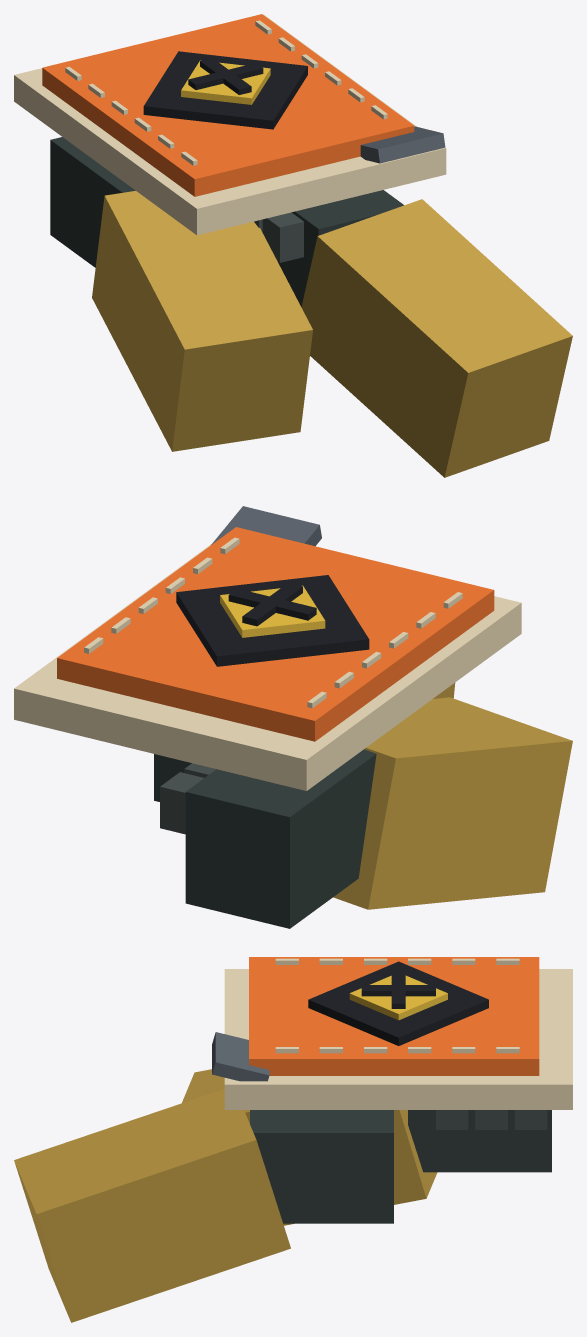
Rendered from suit_patch.glb.
3 renders of one model, top to bottom at view 1: azimuth 30°, elevation 25°; view 2: azimuth 150°, elevation 25°; view 3: azimuth 270°, elevation 25°, orthographic. The views are drawn at different scales.
Parts seen in each view (by area): view 1: _MeshInstance3D_4202, _MeshInstance3D_4196, _MeshInstance3D_4176, _MeshInstance3D_4175, _MeshInstance3D_4177, _MeshInstance3D_4195, _MeshInstance3D_4201, _MeshInstance3D_4179, _MeshInstance3D_4205, _MeshInstance3D_4178, _MeshInstance3D_4192, _MeshInstance3D_4193; view 2: _MeshInstance3D_4176, _MeshInstance3D_4196, _MeshInstance3D_4175, _MeshInstance3D_4195, _MeshInstance3D_4177, _MeshInstance3D_4178, _MeshInstance3D_4179, _MeshInstance3D_4197, _MeshInstance3D_4192, _MeshInstance3D_4193, _MeshInstance3D_4201; view 3: _MeshInstance3D_4202, _MeshInstance3D_4176, _MeshInstance3D_4175, _MeshInstance3D_4201, _MeshInstance3D_4195, _MeshInstance3D_4177, _MeshInstance3D_4196, _MeshInstance3D_4179, _MeshInstance3D_4178, _MeshInstance3D_4193, _MeshInstance3D_4197, _MeshInstance3D_4198 (+2 smaller).
Part boxes in pixels (box(x1,y1,x2,y2)): _MeshInstance3D_4202: box(301, 199, 572, 477); _MeshInstance3D_4196: box(92, 191, 312, 451); _MeshInstance3D_4176: box(42, 14, 414, 196); _MeshInstance3D_4175: box(14, 14, 446, 235); _MeshInstance3D_4177: box(143, 51, 307, 129); _MeshInstance3D_4195: box(50, 137, 135, 267); _MeshInstance3D_4201: box(278, 190, 403, 306); _MeshInstance3D_4179: box(360, 126, 445, 163); _MeshInstance3D_4205: box(262, 212, 303, 262); _MeshInstance3D_4178: box(181, 60, 270, 104); _MeshInstance3D_4192: box(188, 63, 263, 89); _MeshInstance3D_4193: box(200, 58, 251, 94); _MeshInstance3D_4176: box(57, 527, 494, 741); _MeshInstance3D_4196: box(333, 697, 572, 909); _MeshInstance3D_4175: box(14, 544, 521, 790); _MeshInstance3D_4195: box(185, 749, 376, 928); _MeshInstance3D_4177: box(176, 575, 369, 666); _MeshInstance3D_4178: box(220, 585, 325, 637); _MeshInstance3D_4179: box(211, 506, 321, 546); _MeshInstance3D_4197: box(160, 772, 203, 834); _MeshInstance3D_4192: box(228, 588, 316, 620); _MeshInstance3D_4193: box(242, 583, 302, 626); _MeshInstance3D_4201: box(154, 754, 191, 801); _MeshInstance3D_4202: box(14, 1089, 290, 1322); _MeshInstance3D_4176: box(249, 957, 539, 1075); _MeshInstance3D_4175: box(224, 969, 572, 1109); _MeshInstance3D_4201: box(250, 1110, 393, 1223); _MeshInstance3D_4195: box(408, 1110, 551, 1172); _MeshInstance3D_4177: box(308, 961, 488, 1045); _MeshInstance3D_4196: box(182, 1069, 437, 1225); _MeshInstance3D_4179: box(212, 1032, 269, 1081); _MeshInstance3D_4178: box(349, 975, 447, 1020); _MeshInstance3D_4193: box(361, 985, 435, 996); _MeshInstance3D_4197: box(515, 1110, 547, 1129); _MeshInstance3D_4198: box(475, 1110, 507, 1129).
Bounding box in the file's own units: 0.1445 × 0.1257 × 0.2407.
